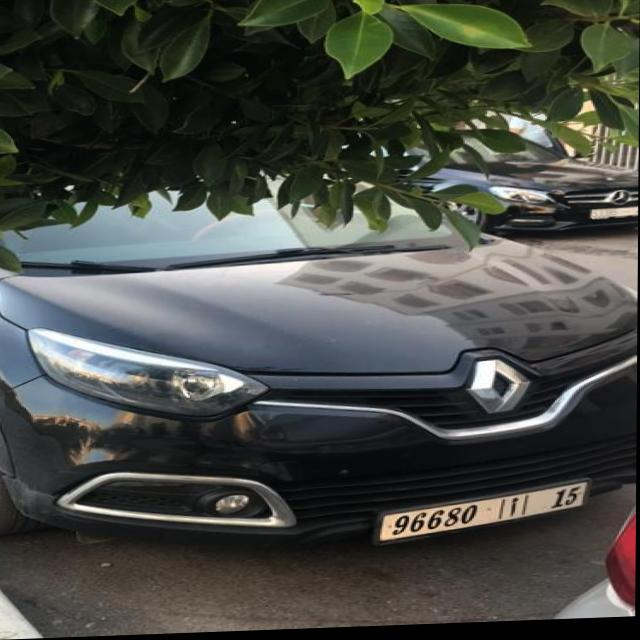License-Plate: (379, 487, 588, 544)
